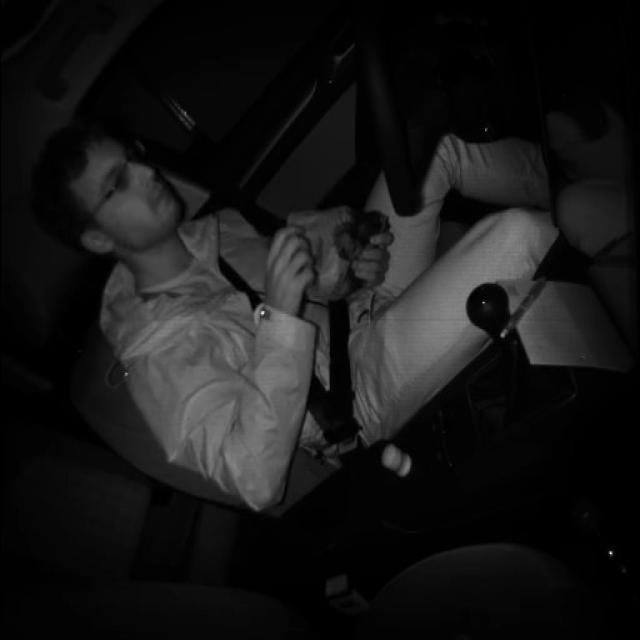pen: (498, 271, 551, 341)
